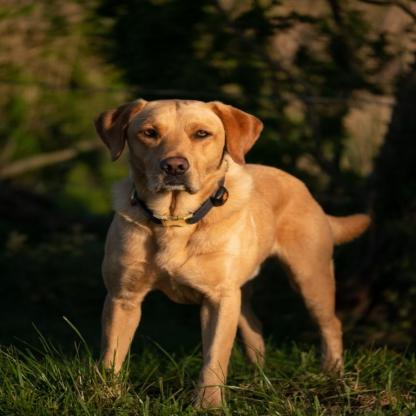dog: (91, 97, 366, 416)
